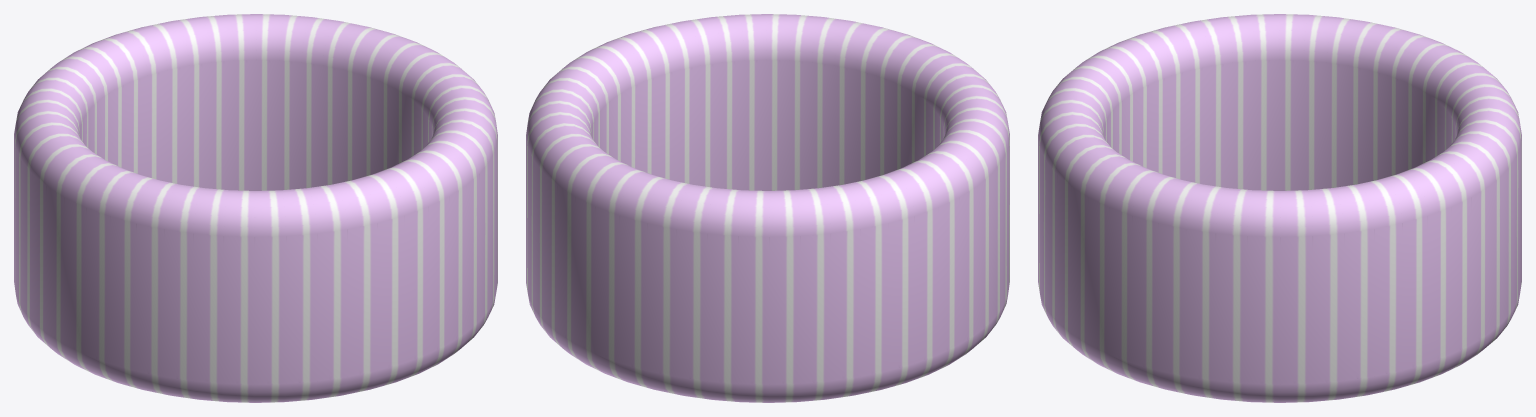
The model's file is Particle-7.dae.
3 renders of one model, left to right at view 1: azimuth 30°, elevation 25°; view 2: azimuth 150°, elevation 25°; view 3: azimuth 270°, elevation 25°, orthographic.
Visible parts, largest first — view 1: Particle; view 2: Particle; view 3: Particle.
Part boxes in pixels (x1,y1,x2,y2): Particle: [14, 14, 497, 402]; Particle: [526, 14, 1009, 402]; Particle: [1038, 14, 1521, 402].
Bounding box in the file's own units: 0.119 × 0.056 × 0.119.
Materials: 1 (1 with a texture image).
